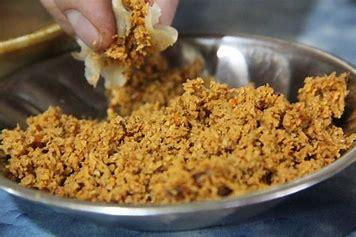Pol Sambol: (8, 45, 341, 215)
